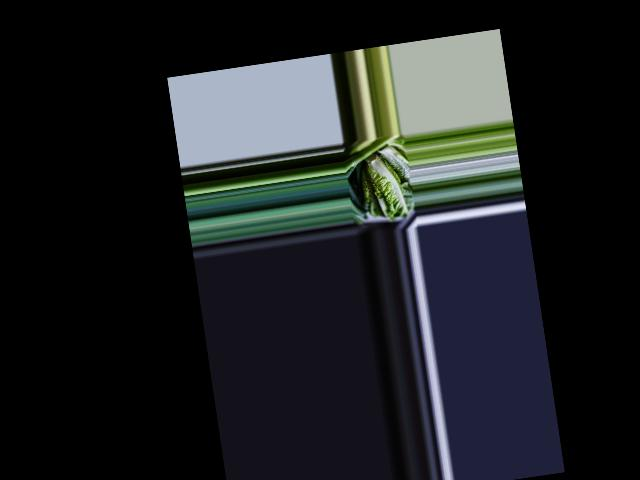lettuce: (356, 149, 409, 224)
